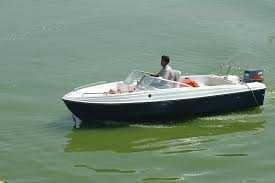kayak: (62, 70, 266, 123)
